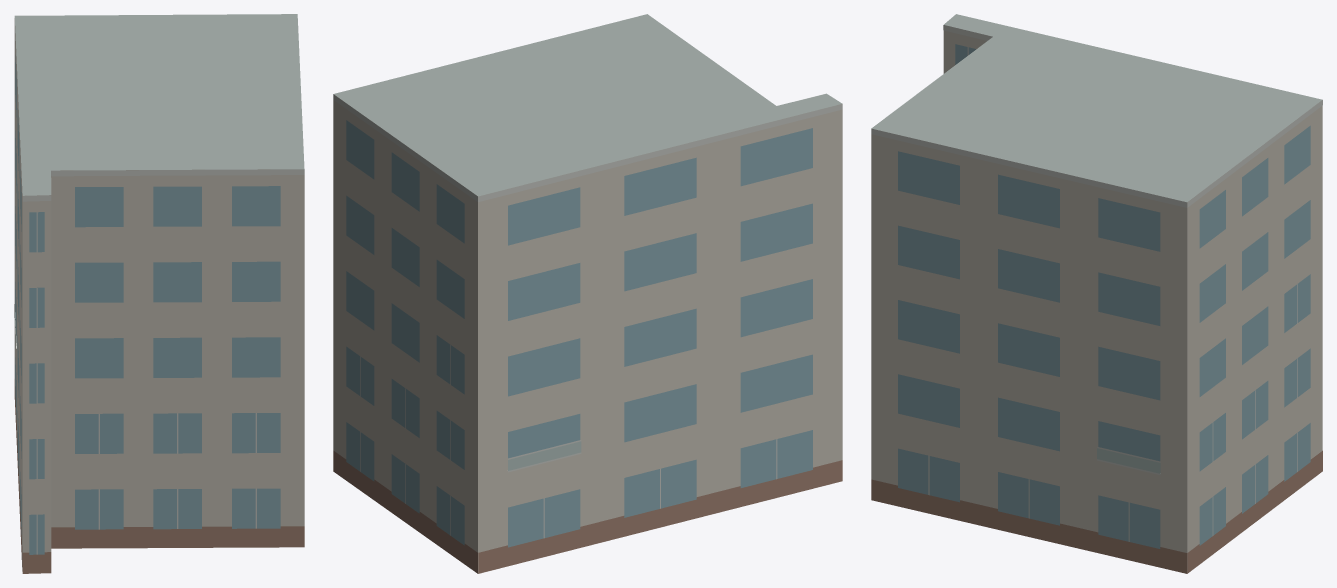
Rendered from survey-upis-32974057.glb.
3 views of the same model, side by side, from view 1: azimuth 30°, elevation 25°; view 2: azimuth 150°, elevation 25°; view 3: azimuth 270°, elevation 25° (orthographic).
Parts seen in each view (by area): view 1: survey-upis-32974057.tmp; view 2: survey-upis-32974057.tmp; view 3: survey-upis-32974057.tmp.
Boxes of the visible parts, x1,y1,x2,y2 form: survey-upis-32974057.tmp: (14, 14, 304, 573); survey-upis-32974057.tmp: (333, 14, 842, 573); survey-upis-32974057.tmp: (871, 14, 1322, 573).
Size of the model in its own units: 17.4 by 16 by 17.63.
